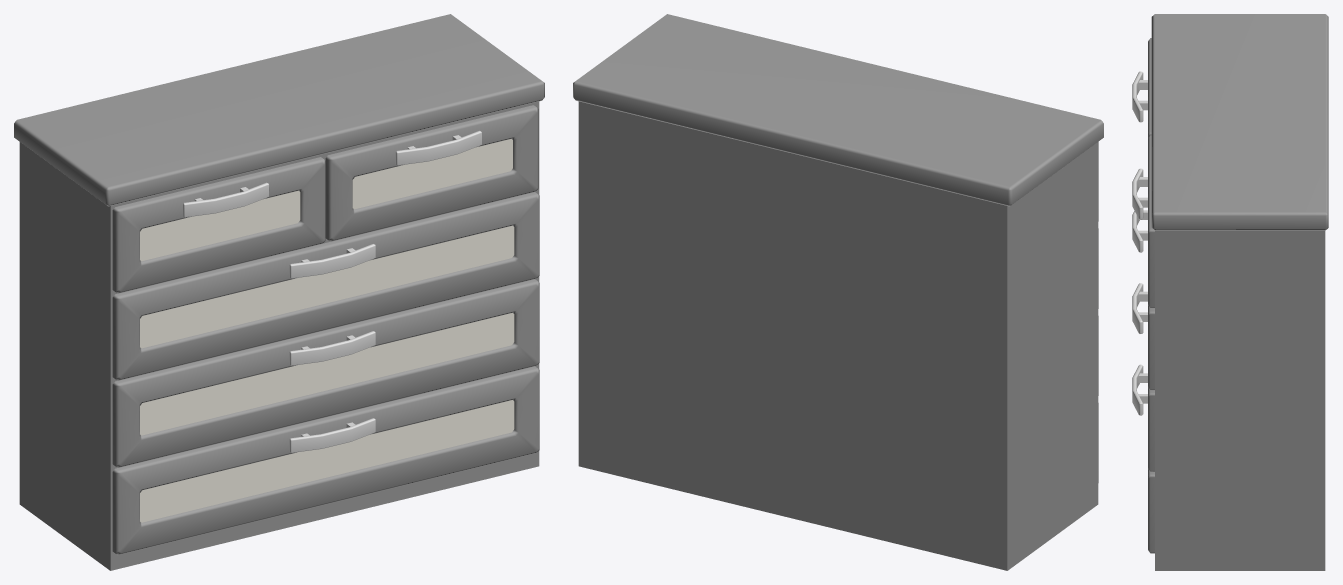
File: dresser_014.fbx
3 views of the same model, side by side, from view 1: azimuth 30°, elevation 25°; view 2: azimuth 150°, elevation 25°; view 3: azimuth 270°, elevation 25° (orthographic). The views are drawn at different scales.
Visible parts, largest first — view 1: dresser_014; view 2: dresser_014; view 3: dresser_014.
Boxes of the visible parts, box(x1,y1,x2,y2) form: dresser_014: box(14, 14, 544, 570); dresser_014: box(573, 14, 1103, 570); dresser_014: box(1132, 14, 1328, 570).
Bounding box in the file's own units: 141 × 58.33 × 118.
